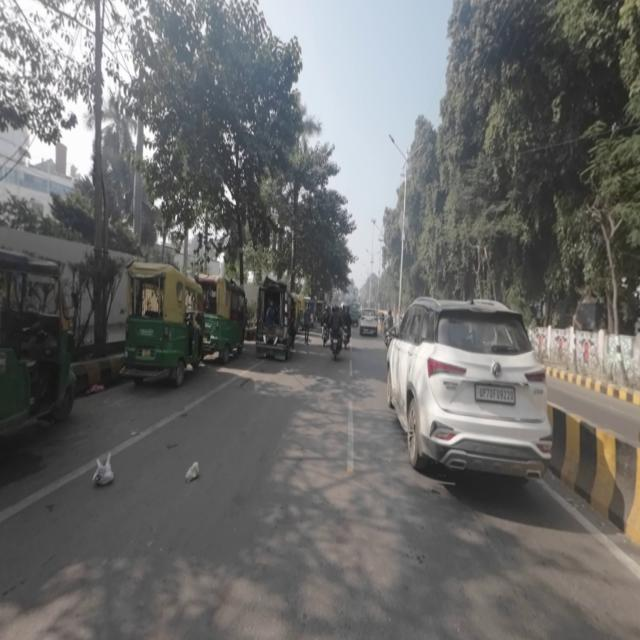Garbage: (89, 451, 121, 492), (183, 456, 204, 484)
